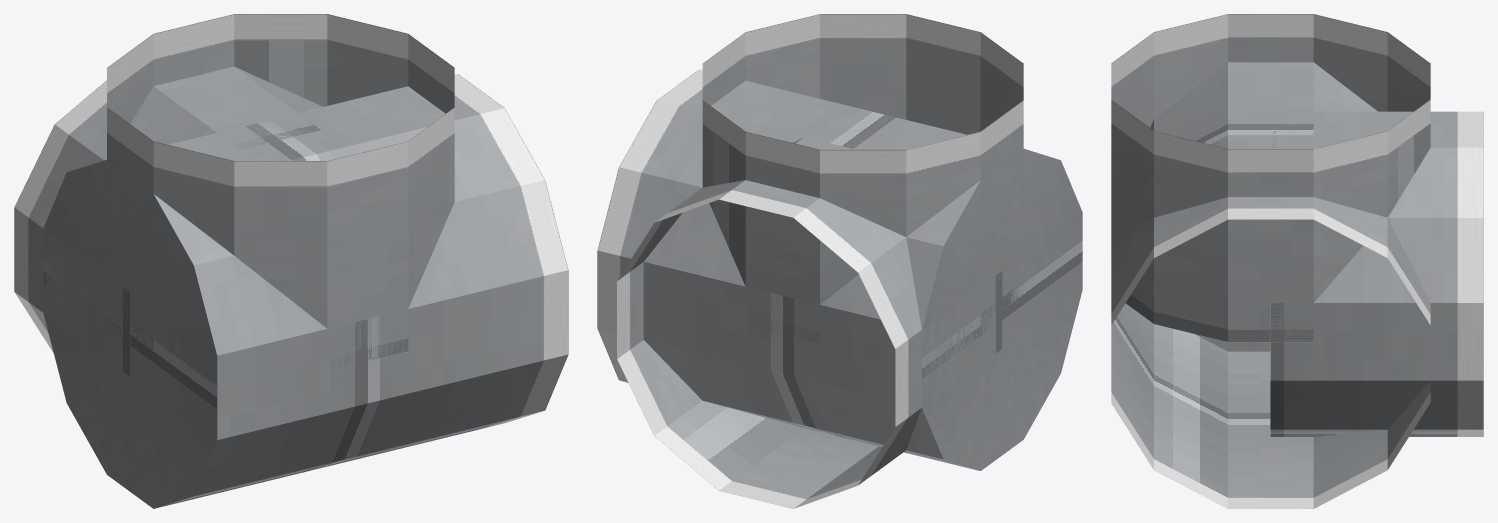
Rendered from connection_38.obj.
3 views of the same model, side by side, from view 1: azimuth 30°, elevation 25°; view 2: azimuth 150°, elevation 25°; view 3: azimuth 270°, elevation 25° (orthographic). The views are drawn at different scales.
Size of the model in its own units: 0.875 by 0.875 by 0.875.
